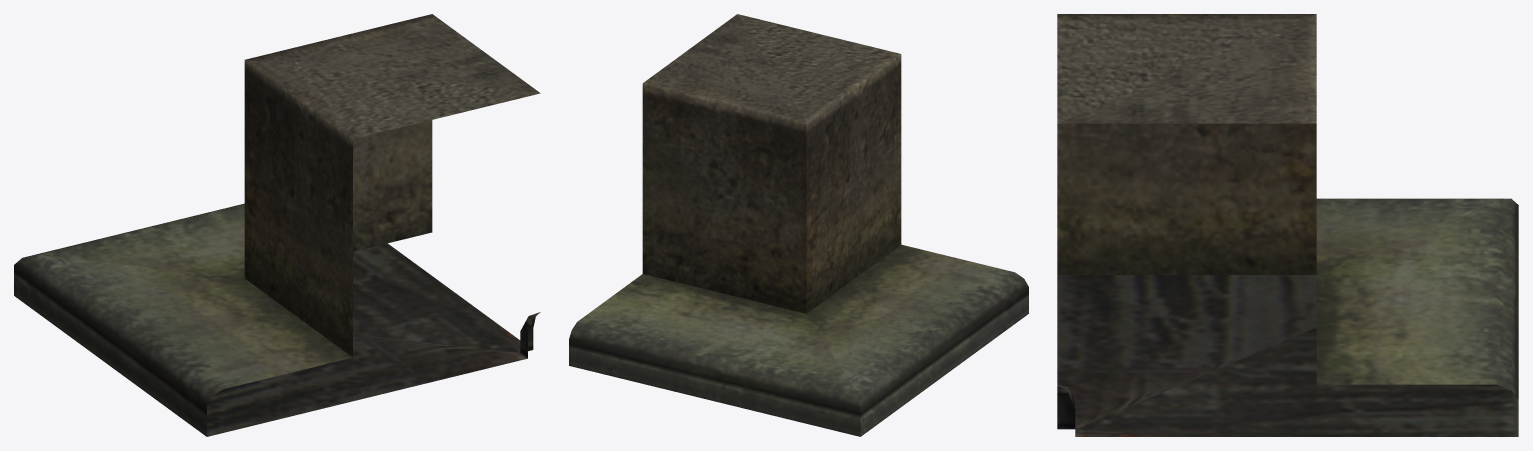
Rendered from downtown_walltrim_top_R_negative_corner.fbx.
3 renders of one model, left to right at view 1: azimuth 30°, elevation 25°; view 2: azimuth 150°, elevation 25°; view 3: azimuth 270°, elevation 25°, orthographic. The views are drawn at different scales.
Parts seen in each view (by area): view 1: downtown_walltrim_top_R_negative_corner; view 2: downtown_walltrim_top_R_negative_corner; view 3: downtown_walltrim_top_R_negative_corner.
Boxes of the visible parts, <box> form: downtown_walltrim_top_R_negative_corner: <box>14,14,540,436</box>; downtown_walltrim_top_R_negative_corner: <box>569,14,1028,436</box>; downtown_walltrim_top_R_negative_corner: <box>1057,14,1518,436</box>.
Size of the model in its own units: 0.32 by 0.24 by 0.32.
